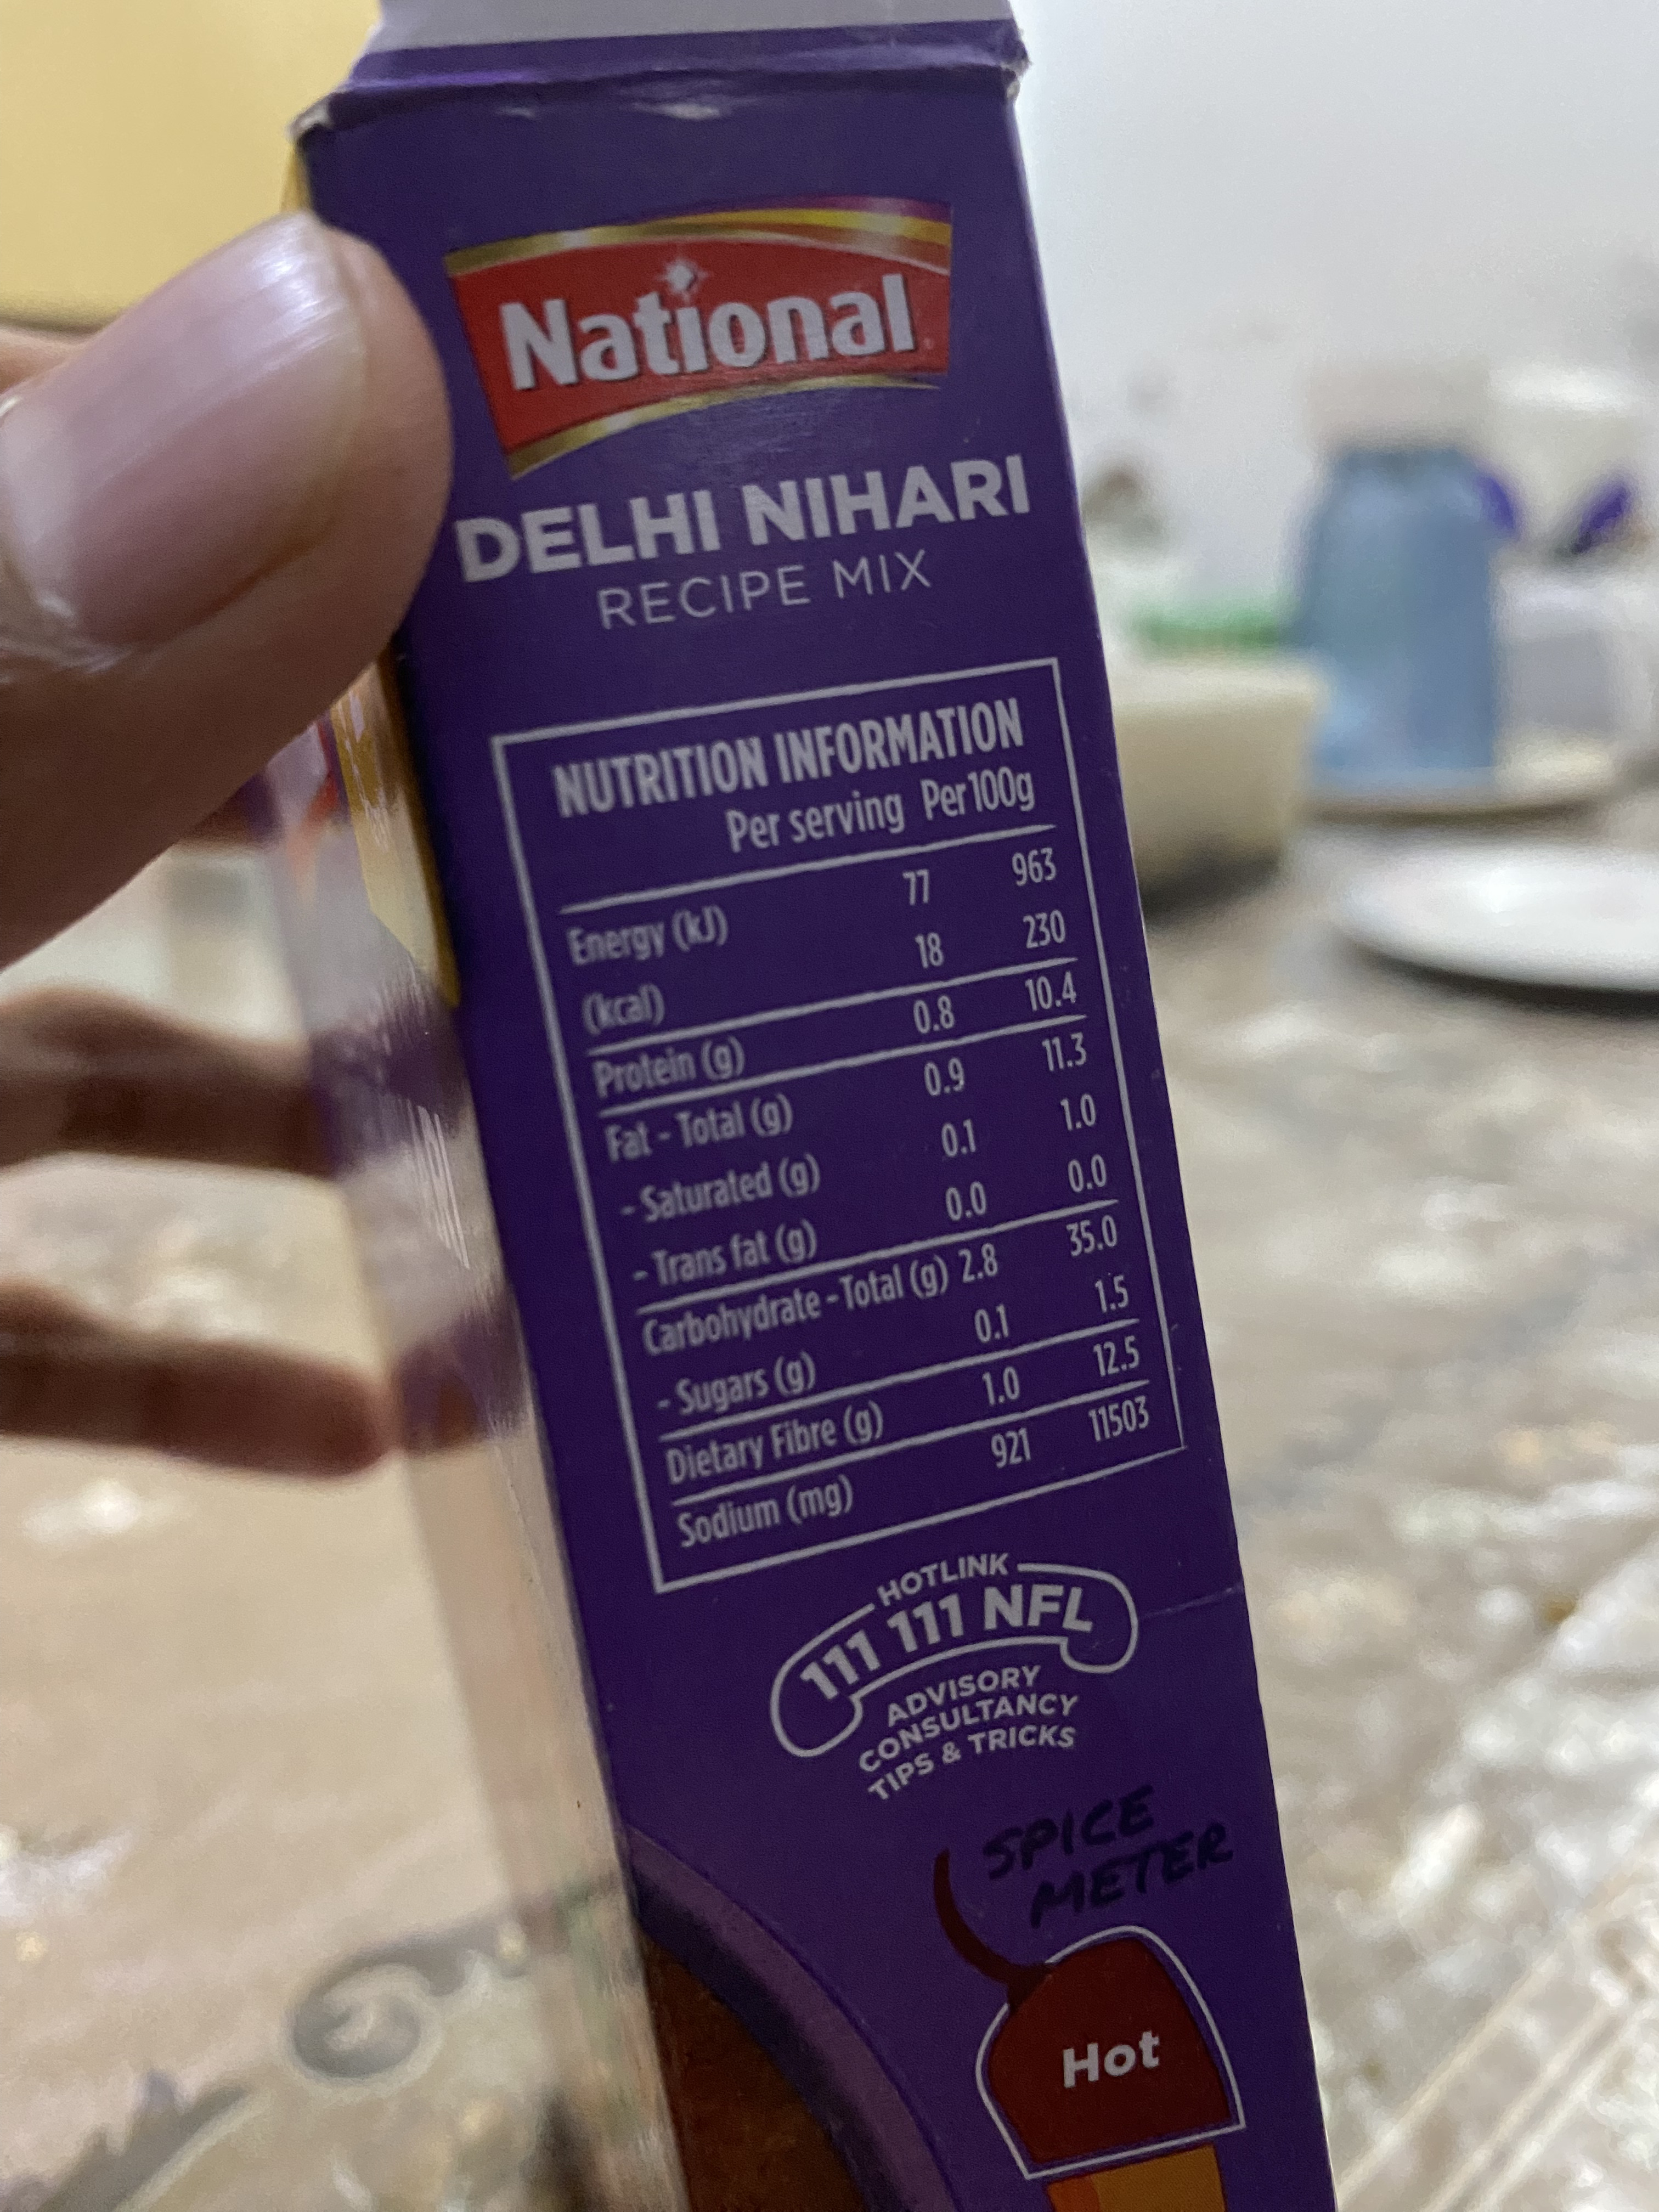table: (484, 655, 1195, 1606)
